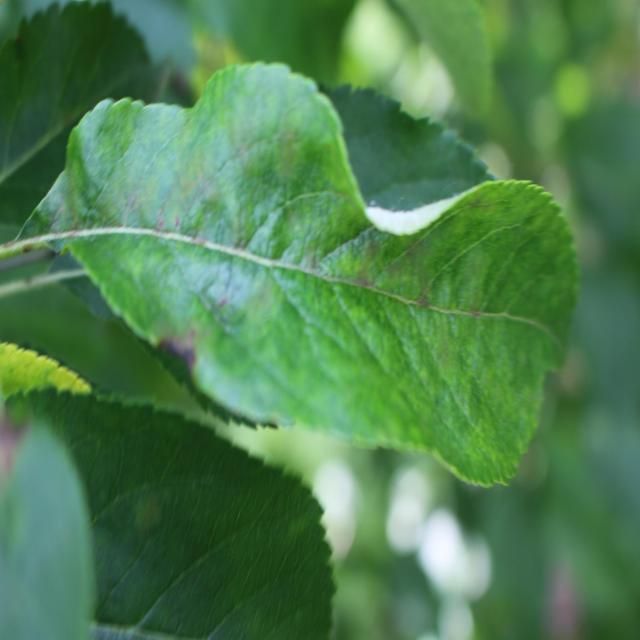scab: (80, 111, 524, 365)
